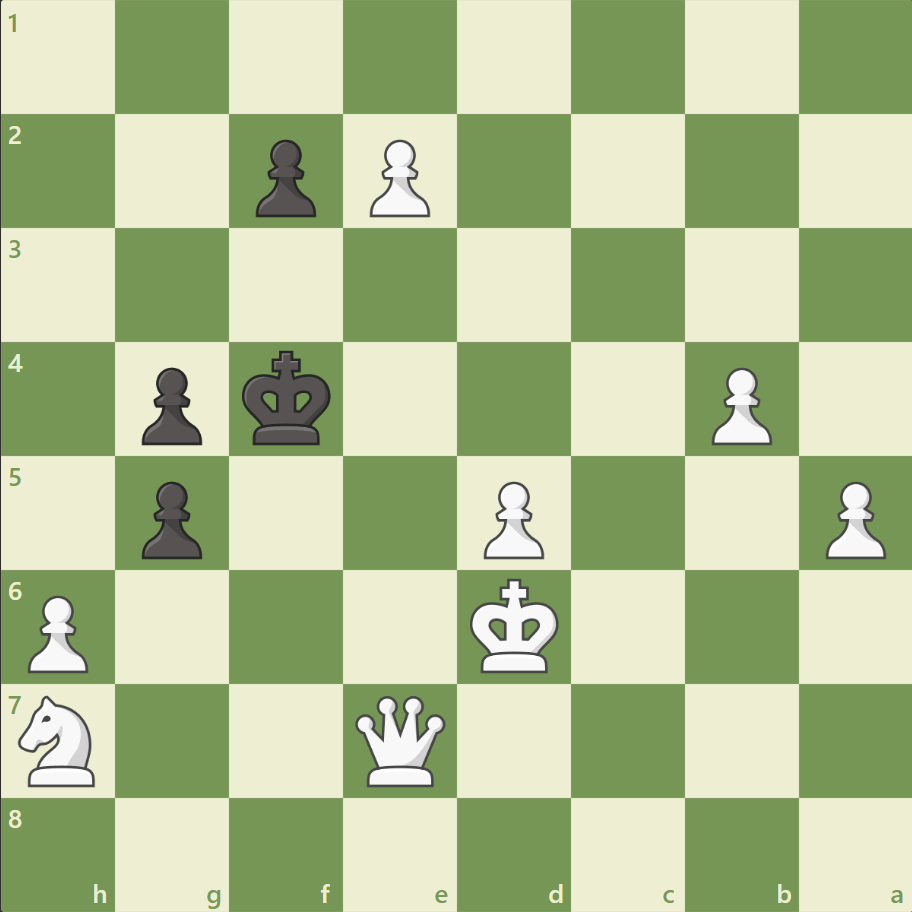K: (465, 571, 565, 679)
N: (11, 688, 108, 791)
P: (20, 586, 95, 677), (474, 473, 549, 564), (701, 359, 776, 450), (815, 473, 889, 564), (361, 132, 435, 223)
Q: (351, 690, 450, 789)
k: (238, 344, 338, 452)
p: (133, 473, 208, 564), (133, 359, 208, 450), (247, 132, 322, 223)
